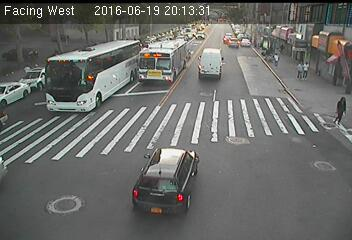neg: (220, 109, 254, 154), (4, 117, 34, 157), (97, 90, 125, 127), (269, 166, 297, 203), (227, 44, 252, 76), (163, 134, 186, 164), (115, 42, 137, 71), (68, 78, 88, 105), (119, 183, 139, 210), (171, 50, 190, 74), (35, 69, 53, 93), (212, 60, 228, 80)
pos: (326, 93, 350, 125), (289, 59, 305, 80), (302, 60, 317, 79), (277, 39, 290, 57), (271, 53, 282, 68)
